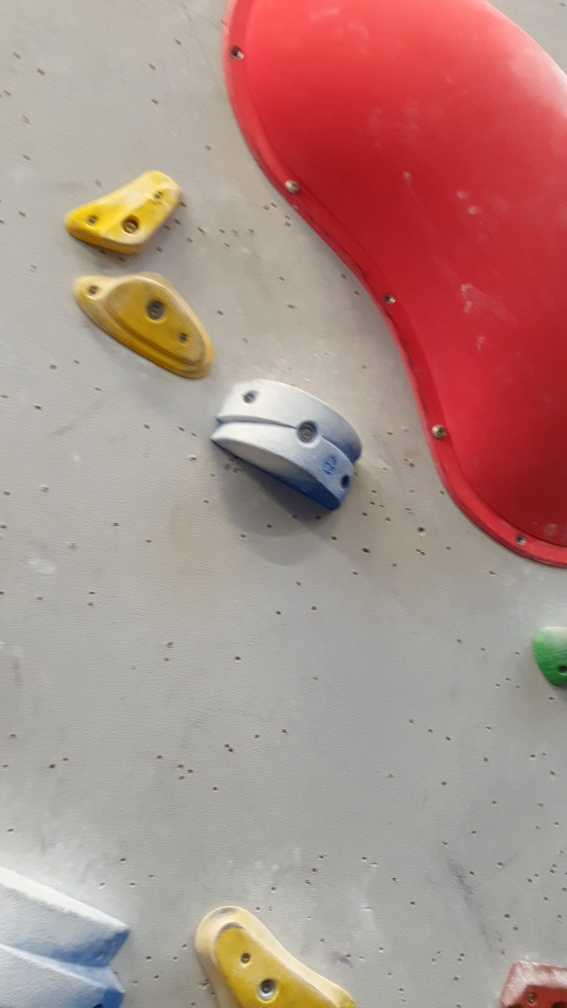Crimp: (98, 177, 185, 257)
Pinch: (211, 376, 364, 510), (1, 860, 131, 1007)
